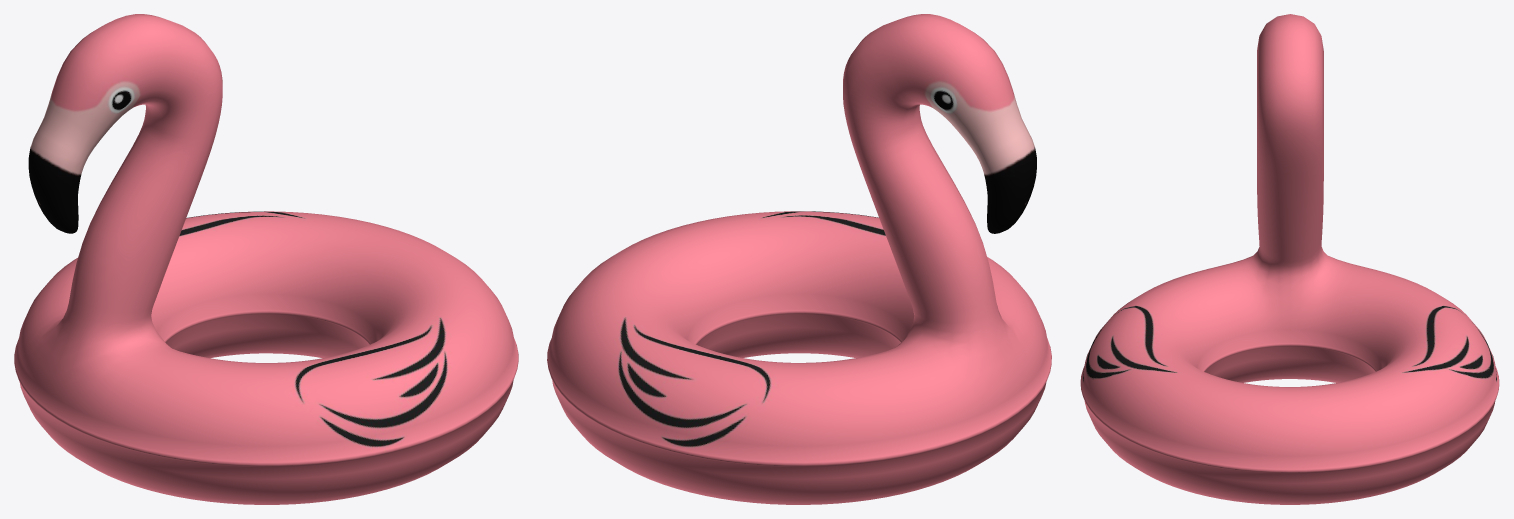
The model's file is float.glb.
3 renders of one model, left to right at view 1: azimuth 30°, elevation 25°; view 2: azimuth 150°, elevation 25°; view 3: azimuth 270°, elevation 25°, orthographic. The views are drawn at different scales.
Parts seen in each view (by area): view 1: Flamingo swimming ring; view 2: Flamingo swimming ring; view 3: Flamingo swimming ring.
Boxes of the visible parts, x1=… form: Flamingo swimming ring: x1=14, y1=14, x2=518, y2=504; Flamingo swimming ring: x1=547, y1=14, x2=1051, y2=504; Flamingo swimming ring: x1=1080, y1=14, x2=1499, y2=504.
Size of the model in its own units: 0.0501 by 0.0462 by 0.0484.
1 material, 1 textured.
